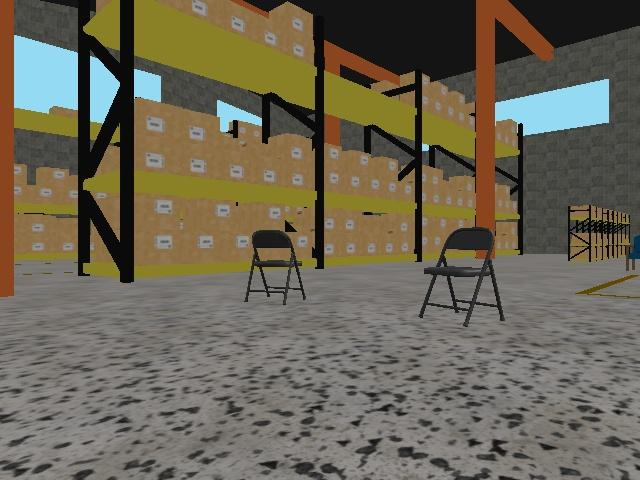chair: (418, 228, 505, 326), (245, 230, 306, 304)
